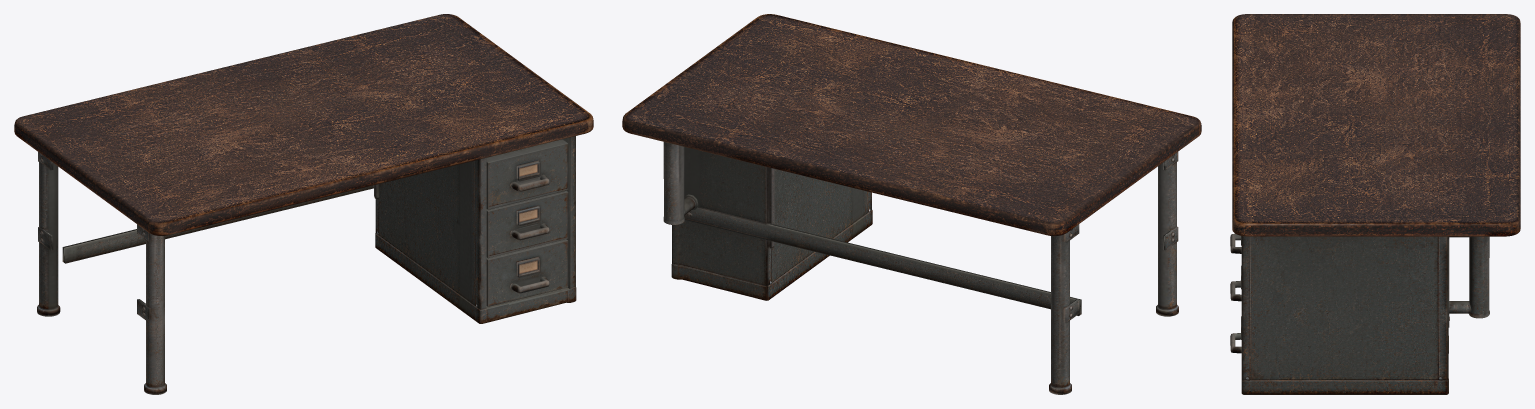
Rendered from desk.fbx.
3 renders of one model, left to right at view 1: azimuth 30°, elevation 25°; view 2: azimuth 150°, elevation 25°; view 3: azimuth 270°, elevation 25°, orthographic. The views are drawn at different scales.
Parts seen in each view (by area): view 1: tripo_6c198a2a_2e59_4b1e_a00f_d145fe7a679e; view 2: tripo_6c198a2a_2e59_4b1e_a00f_d145fe7a679e; view 3: tripo_6c198a2a_2e59_4b1e_a00f_d145fe7a679e.
Part boxes in pixels (x1,y1,x2,y2): tripo_6c198a2a_2e59_4b1e_a00f_d145fe7a679e: (14, 14, 593, 394); tripo_6c198a2a_2e59_4b1e_a00f_d145fe7a679e: (622, 14, 1201, 394); tripo_6c198a2a_2e59_4b1e_a00f_d145fe7a679e: (1230, 14, 1520, 394).
Size of the model in its own units: 0.9995 by 0.395 by 0.5796.
Materials: 1 (1 with a texture image).
